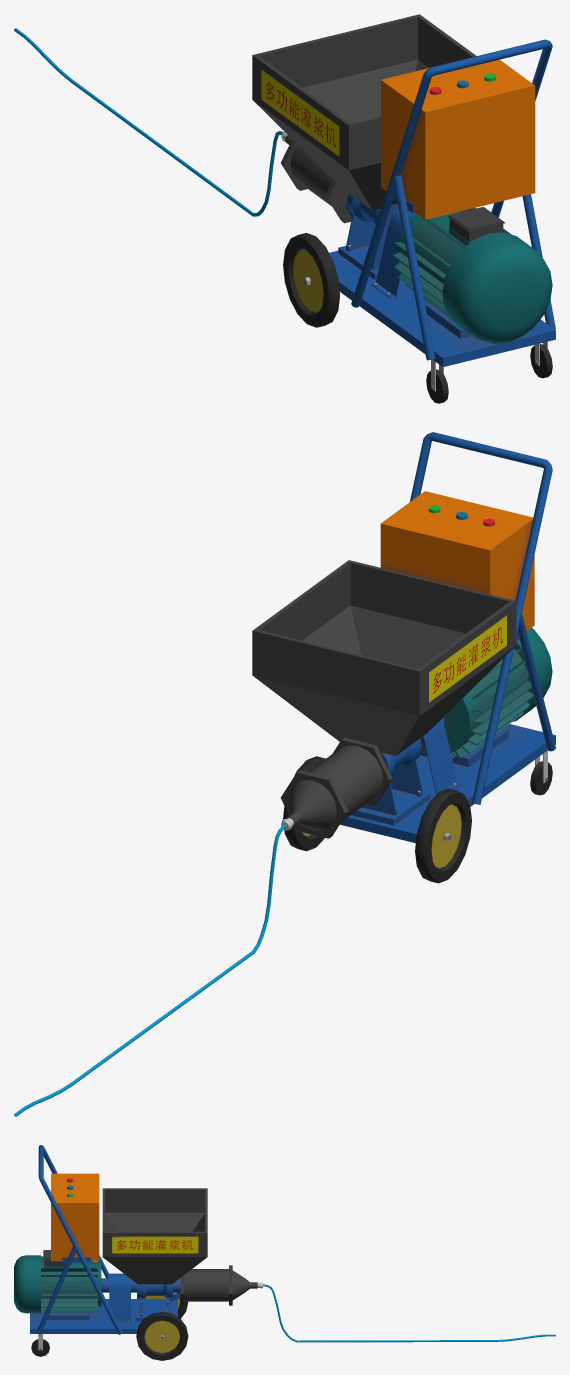
Rendered from guanjiangji.FBX.
3 views of the same model, one above another, from view 1: azimuth 30°, elevation 25°; view 2: azimuth 150°, elevation 25°; view 3: azimuth 270°, elevation 25° (orthographic). The views are drawn at different scales.
Visible parts, largest first — view 1: guanjiangji, guanjiangguan; view 2: guanjiangji, guanjiangguan; view 3: guanjiangji, guanjiangguan.
Boxes of the visible parts, left/top/right/bottom form: guanjiangji: left=252, top=14, right=555, bottom=403; guanjiangguan: left=14, top=28, right=282, bottom=216; guanjiangji: left=252, top=432, right=555, bottom=883; guanjiangguan: left=14, top=824, right=286, bottom=1116; guanjiangji: left=14, top=1145, right=262, bottom=1360; guanjiangguan: left=263, top=1284, right=555, bottom=1342.
Bounding box in the file's own units: 60.99 × 117 × 315.
2 materials, 2 textured.
